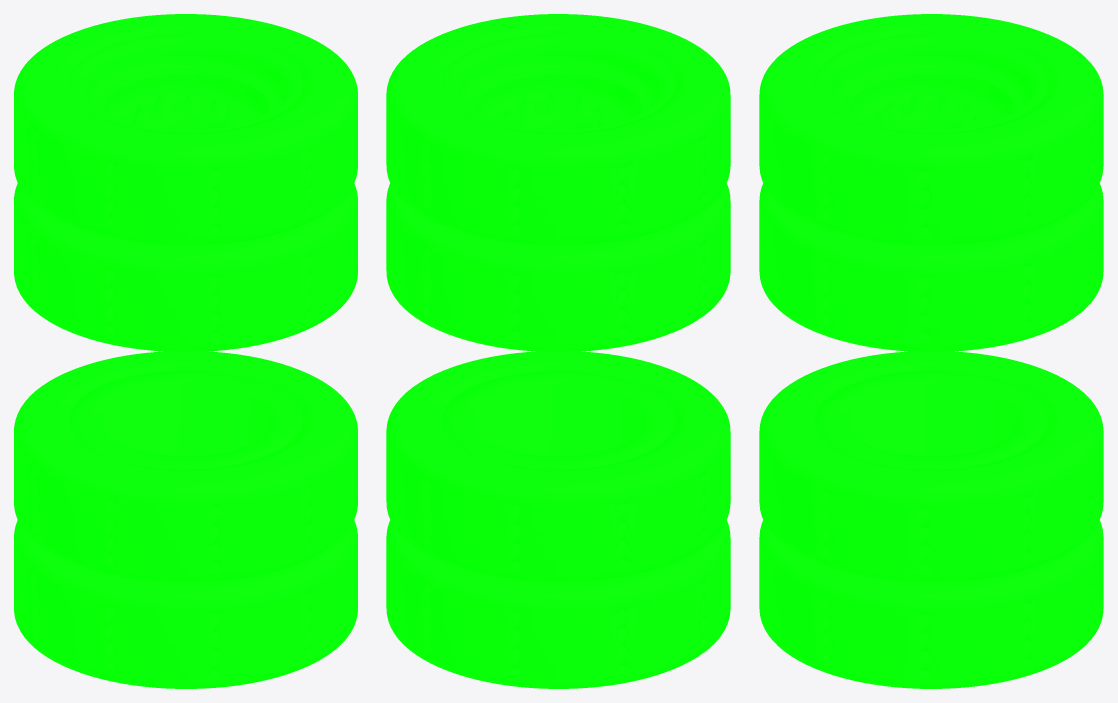
Rendered from wheel.dae.
3 views of the same model, side by side, from view 1: azimuth 30°, elevation 25°; view 2: azimuth 150°, elevation 25°; view 3: azimuth 270°, elevation 25° (orthographic).
Parts seen in each view (by area): view 1: node0; view 2: node0; view 3: node0.
Part boxes in pixels (x1,y1,x2,y2): node0: (14, 14, 357, 688); node0: (386, 14, 730, 688); node0: (759, 14, 1103, 688).
Bounding box in the file's own units: 0.65 × 1.13 × 0.65.
